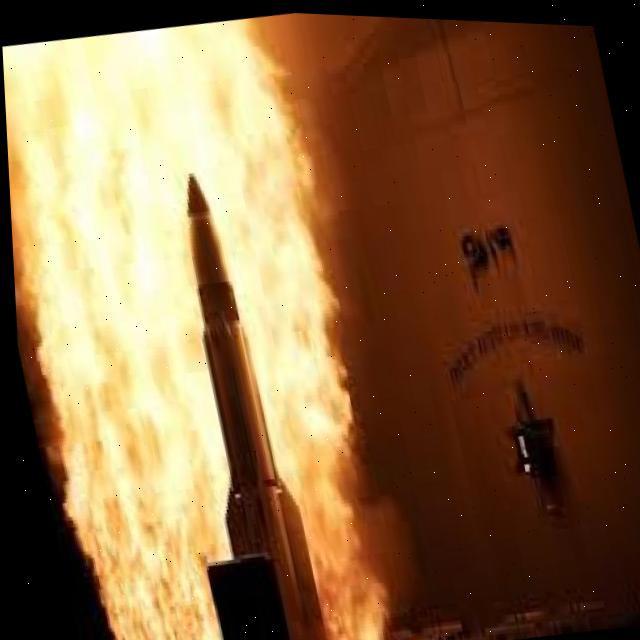missile: (126, 155, 349, 640)
